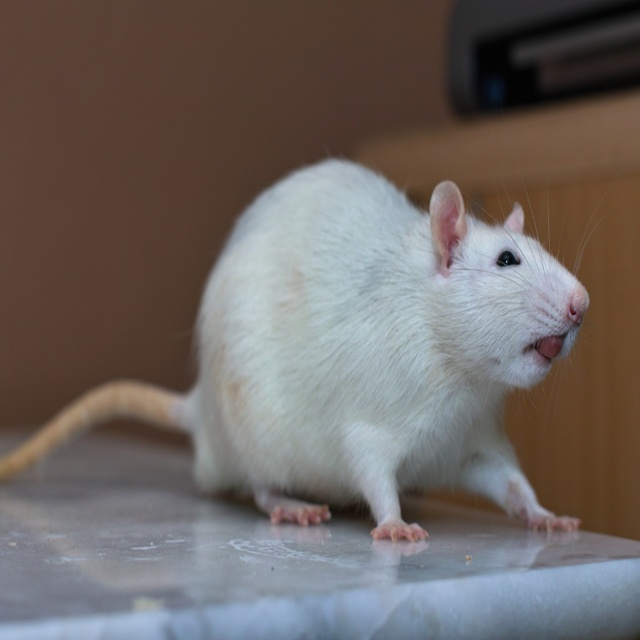Mouse: (0, 169, 592, 539)
